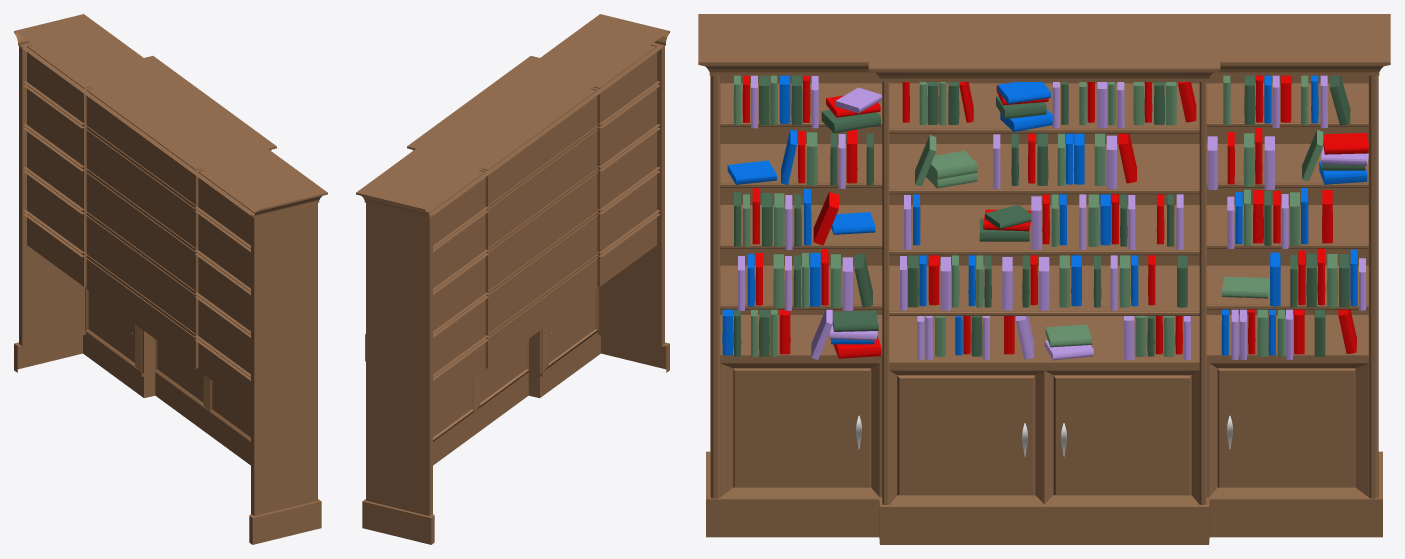
The model's file is LIBRERIA.fbx.
The picture shows the model from 3 angles, left to right: view 1: azimuth 30°, elevation 25°; view 2: azimuth 150°, elevation 25°; view 3: azimuth 270°, elevation 25°; orthographic projection. The views are drawn at different scales.
Parts seen in each view (by area): view 1: polySurface262, polySurface272, polySurface273, polySurface261, polySurface263, polySurface265, polySurface266, polySurface264, polySurface279, polySurface278, polySurface277, polySurface276; view 2: polySurface262, polySurface272, polySurface281, polySurface275, polySurface276, polySurface278, polySurface279, polySurface277, polySurface266, polySurface265, polySurface264, polySurface263; view 3: polySurface262, polySurface272, polySurface269, polySurface270, polySurface271, polySurface268, polySurface265, polySurface277, polySurface263, polySurface281, polySurface273, polySurface266 (+16 smaller).
Boxes of the visible parts, x1=… form: polySurface262: x1=14, y1=42, x2=321, y2=544; polySurface272: x1=14, y1=14, x2=327, y2=218; polySurface273: x1=72, y1=278, x2=85, y2=337; polySurface261: x1=141, y1=329, x2=155, y2=378; polySurface263: x1=23, y1=81, x2=86, y2=128; polySurface265: x1=23, y1=167, x2=86, y2=214; polySurface266: x1=23, y1=209, x2=86, y2=256; polySurface264: x1=23, y1=124, x2=86, y2=171; polySurface279: x1=195, y1=335, x2=250, y2=380; polySurface278: x1=195, y1=292, x2=250, y2=337; polySurface277: x1=195, y1=249, x2=250, y2=294; polySurface276: x1=195, y1=206, x2=250, y2=251; polySurface262: x1=362, y1=42, x2=669, y2=544; polySurface272: x1=356, y1=14, x2=669, y2=218; polySurface281: x1=598, y1=278, x2=611, y2=337; polySurface275: x1=528, y1=329, x2=542, y2=378; polySurface276: x1=597, y1=81, x2=660, y2=128; polySurface278: x1=597, y1=167, x2=660, y2=214; polySurface279: x1=597, y1=209, x2=660, y2=256; polySurface277: x1=597, y1=124, x2=660, y2=171; polySurface266: x1=433, y1=335, x2=488, y2=380; polySurface265: x1=433, y1=292, x2=488, y2=337; polySurface264: x1=433, y1=249, x2=488, y2=294; polySurface263: x1=433, y1=206, x2=488, y2=251; polySurface262: x1=706, y1=75, x2=1382, y2=544; polySurface272: x1=698, y1=14, x2=1390, y2=81; polySurface269: x1=889, y1=144, x2=1199, y2=194; polySurface270: x1=889, y1=205, x2=1199, y2=255; polySurface271: x1=889, y1=265, x2=1199, y2=315; polySurface268: x1=889, y1=83, x2=1199, y2=133; polySurface265: x1=1206, y1=205, x2=1368, y2=248; polySurface277: x1=720, y1=144, x2=882, y2=187; polySurface263: x1=1206, y1=83, x2=1368, y2=126; polySurface281: x1=711, y1=75, x2=719, y2=498; polySurface273: x1=1369, y1=75, x2=1377, y2=498; polySurface266: x1=1206, y1=265, x2=1368, y2=309.
Size of the model in its own units: 0.5817 by 2.29 by 3.01.
